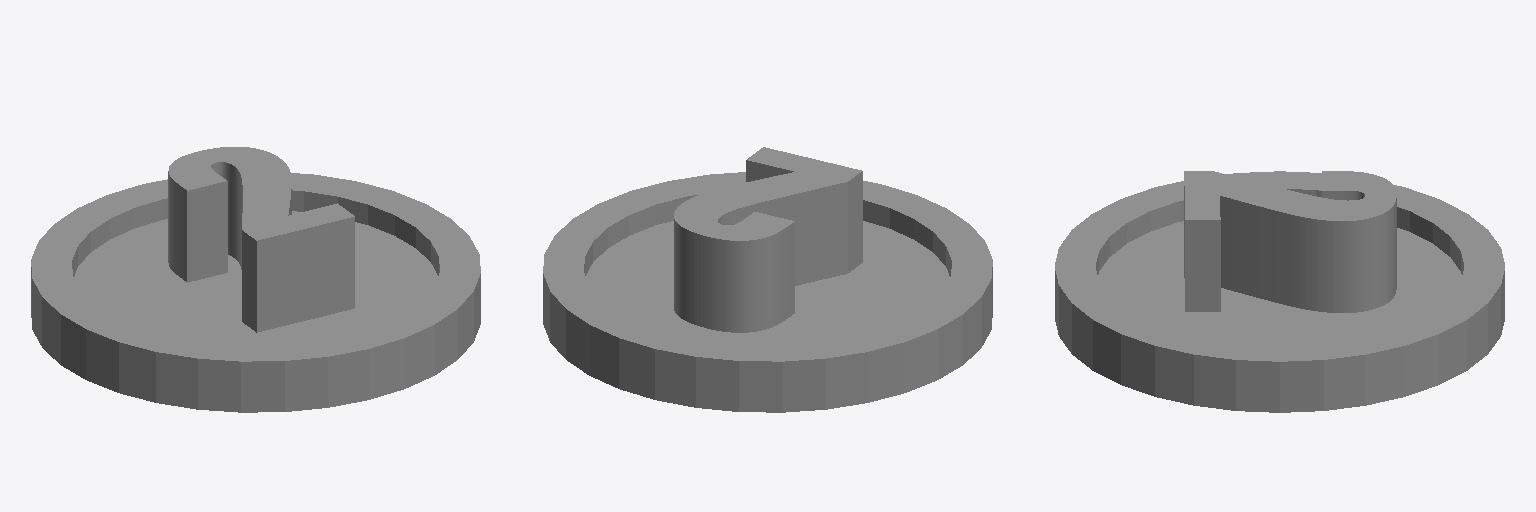
File: cannon_piece.obj
The picture shows the model from 3 angles: view 1: azimuth 30°, elevation 25°; view 2: azimuth 150°, elevation 25°; view 3: azimuth 270°, elevation 25°; orthographic projection.
Parts seen in each view (by area): view 1: Cylinder; view 2: Cylinder; view 3: Cylinder.
Boxes of the visible parts, <box> form: Cylinder: <box>31,147,480,412</box>; Cylinder: <box>543,147,992,412</box>; Cylinder: <box>1055,171,1504,412</box>.
Size of the model in its own units: 8 by 2.41 by 8.